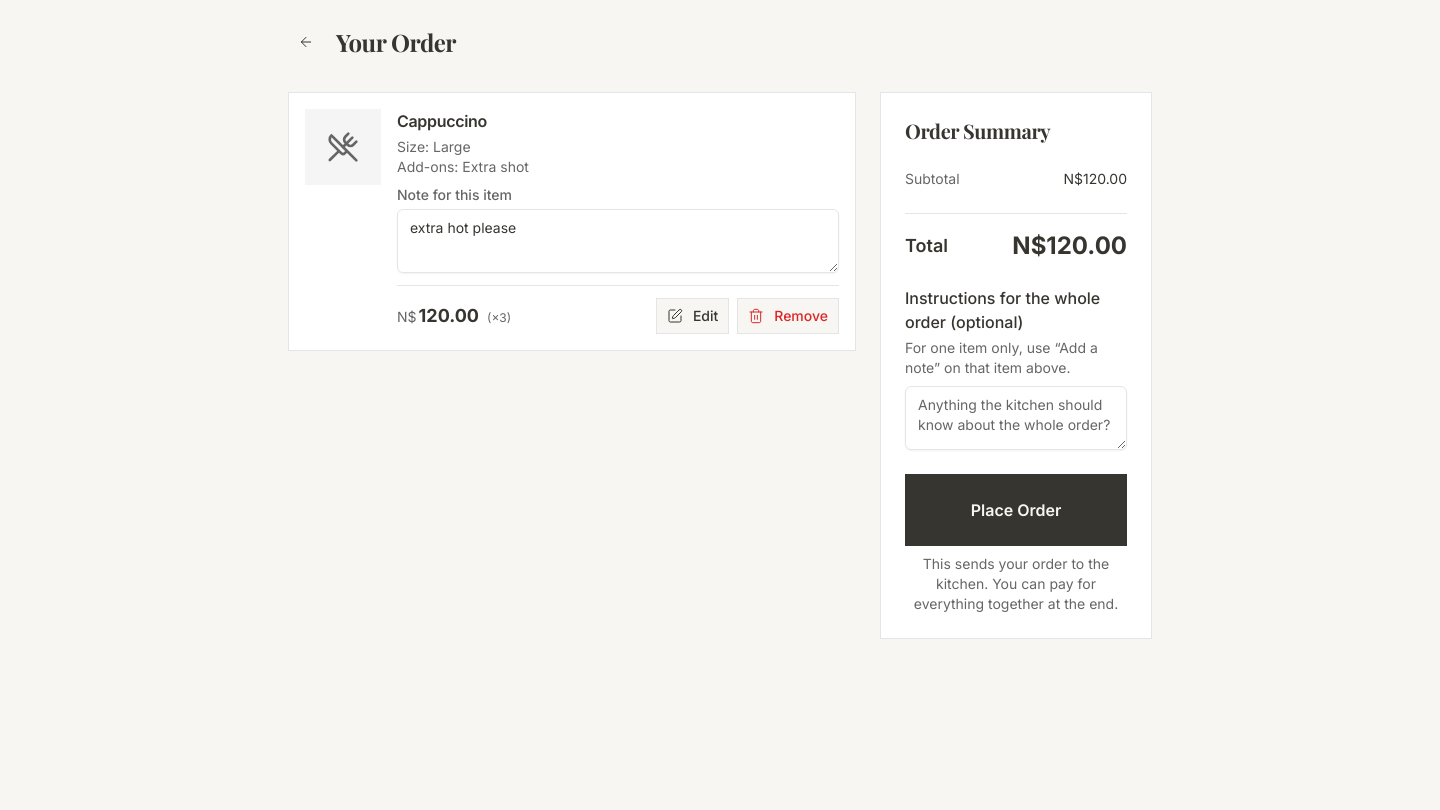
Test: the cart row itself (#126, end to end through the page) › opens Edit on the line the customer pressed, already showing its quantity and size
Click the button "Edit".
click(693, 316)  # box [656,298,729,334]
(page scrolled)
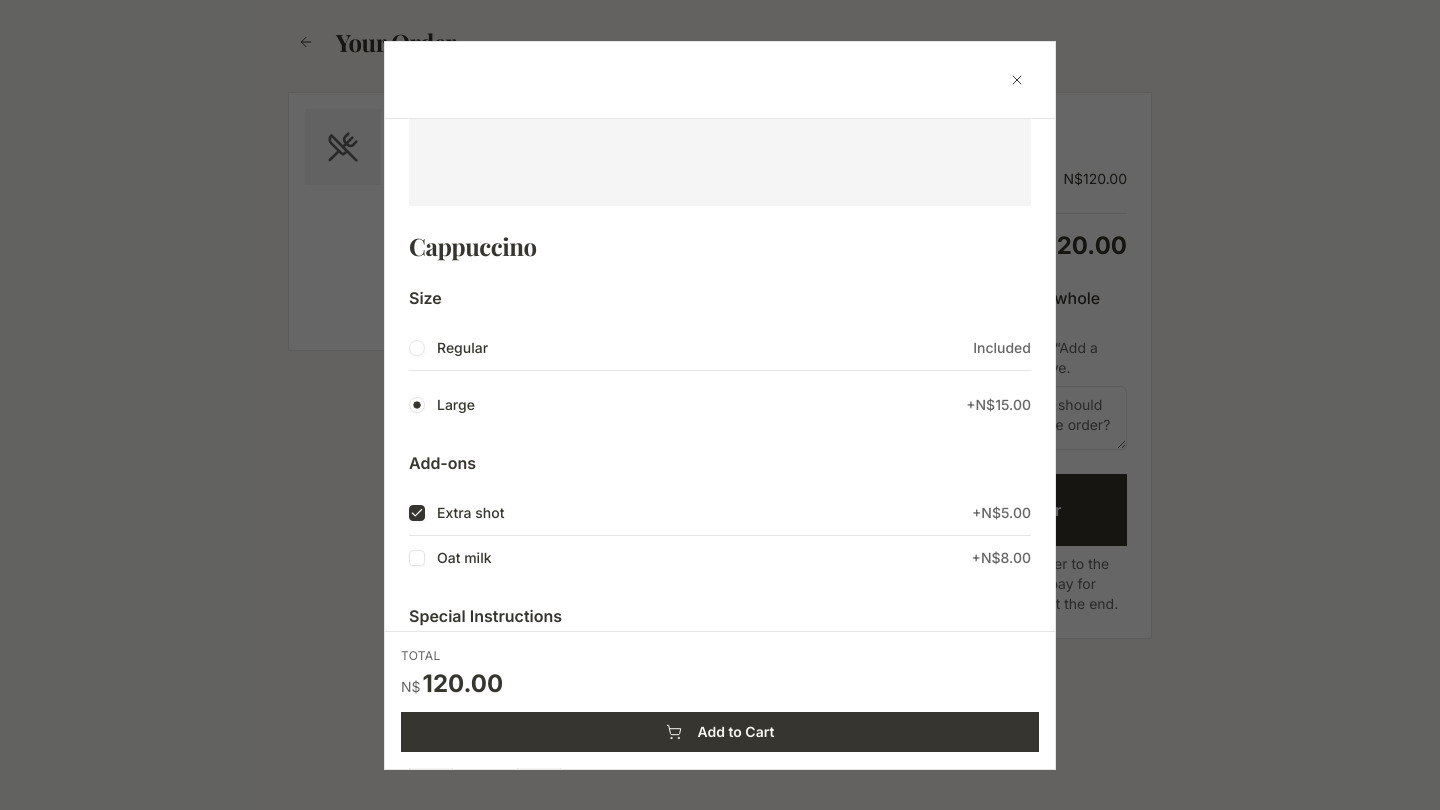
Expected: the dialog is shown, [384,40,1056,770]
Expected: the radio button in the row of "N$15.00" holds "Large", [409,397,425,413]
